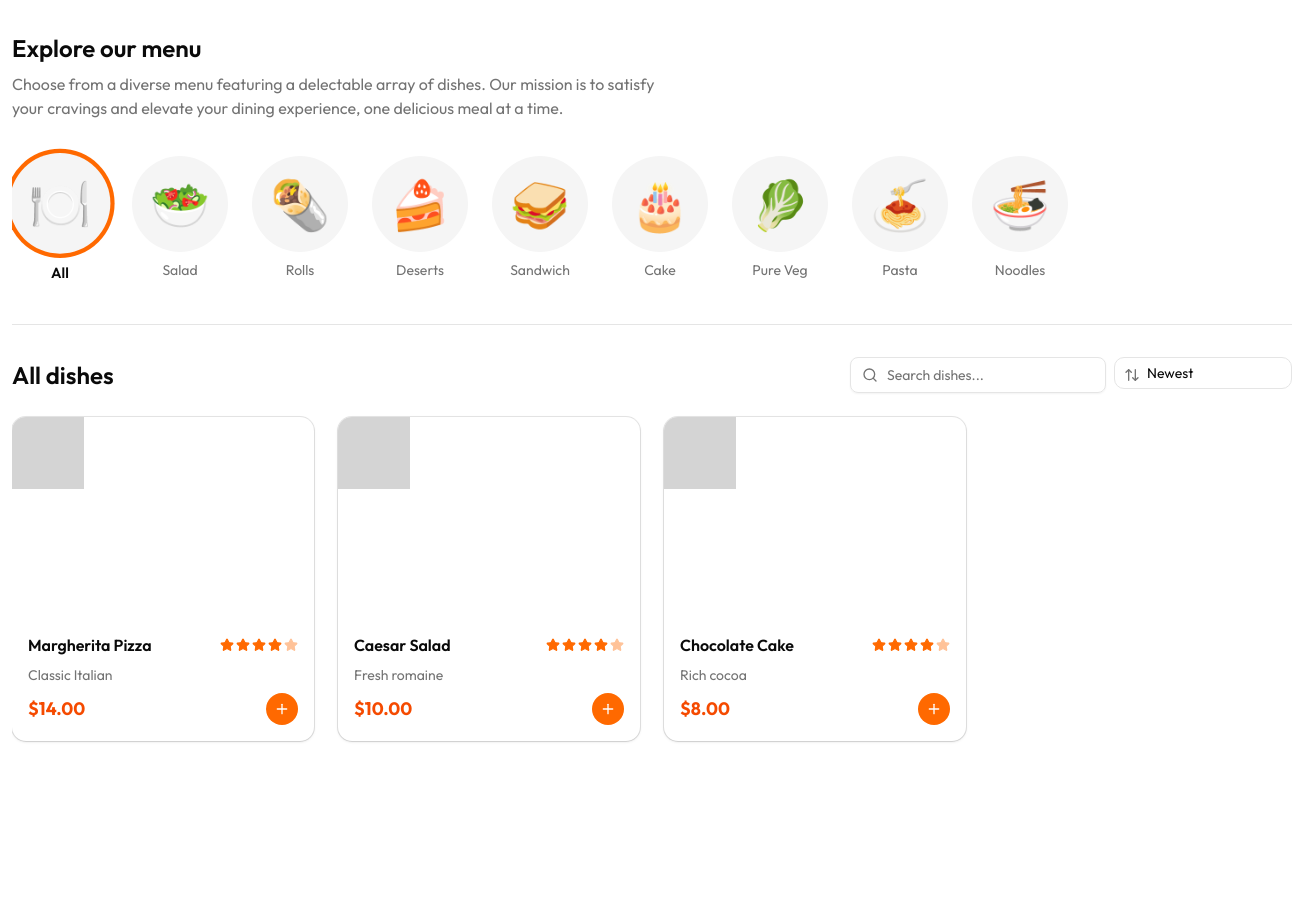
Test: FoodSection › clears search when X button is clicked
Type "pizza" into the field with placeholder "Search dishes..." at (978, 375), box [850,357,1106,393]
Wait 400 ms
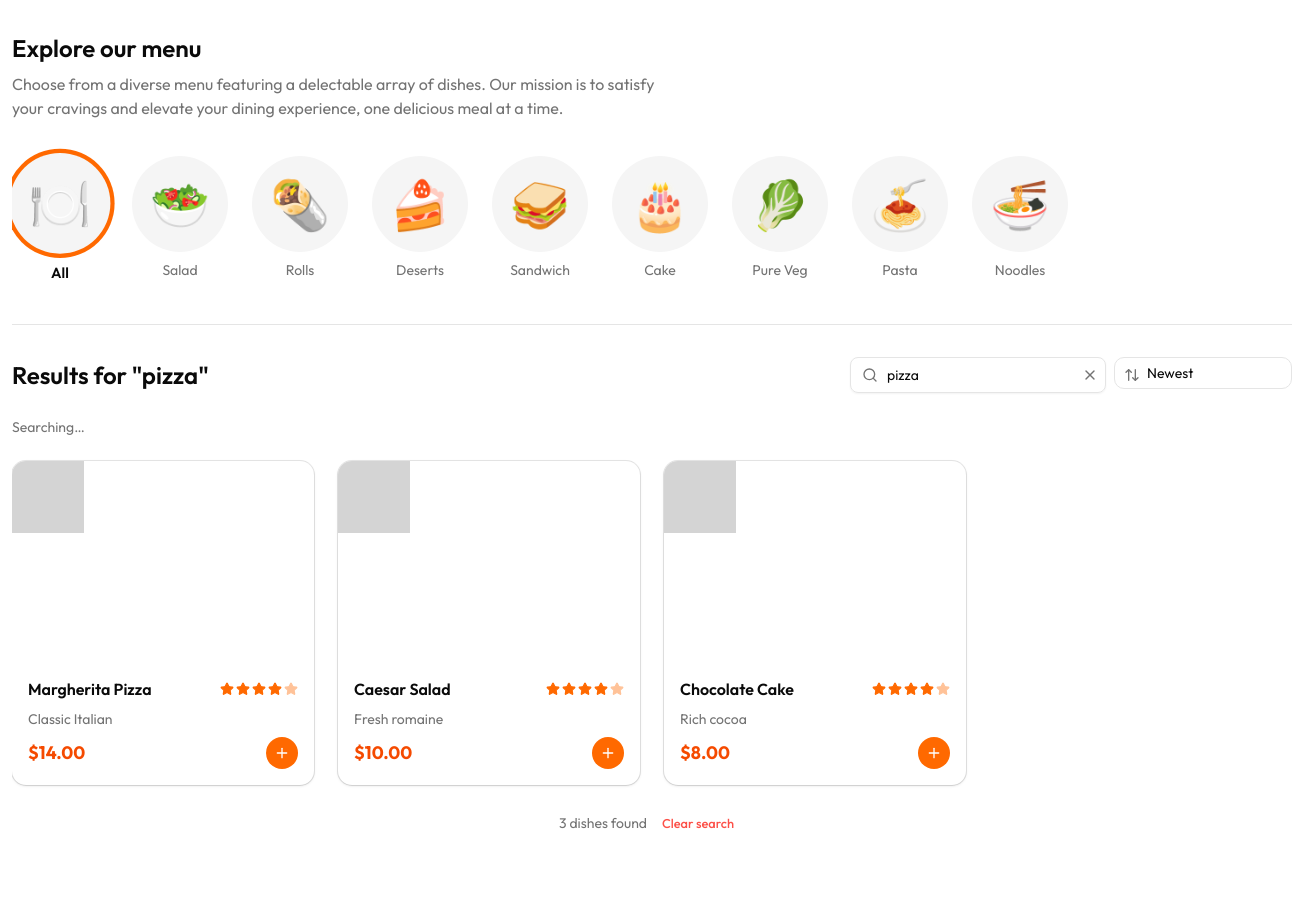
Now the button named "Clear search" is shown
Click the button named "Clear search" at (1090, 375), box [1082,367,1098,383]
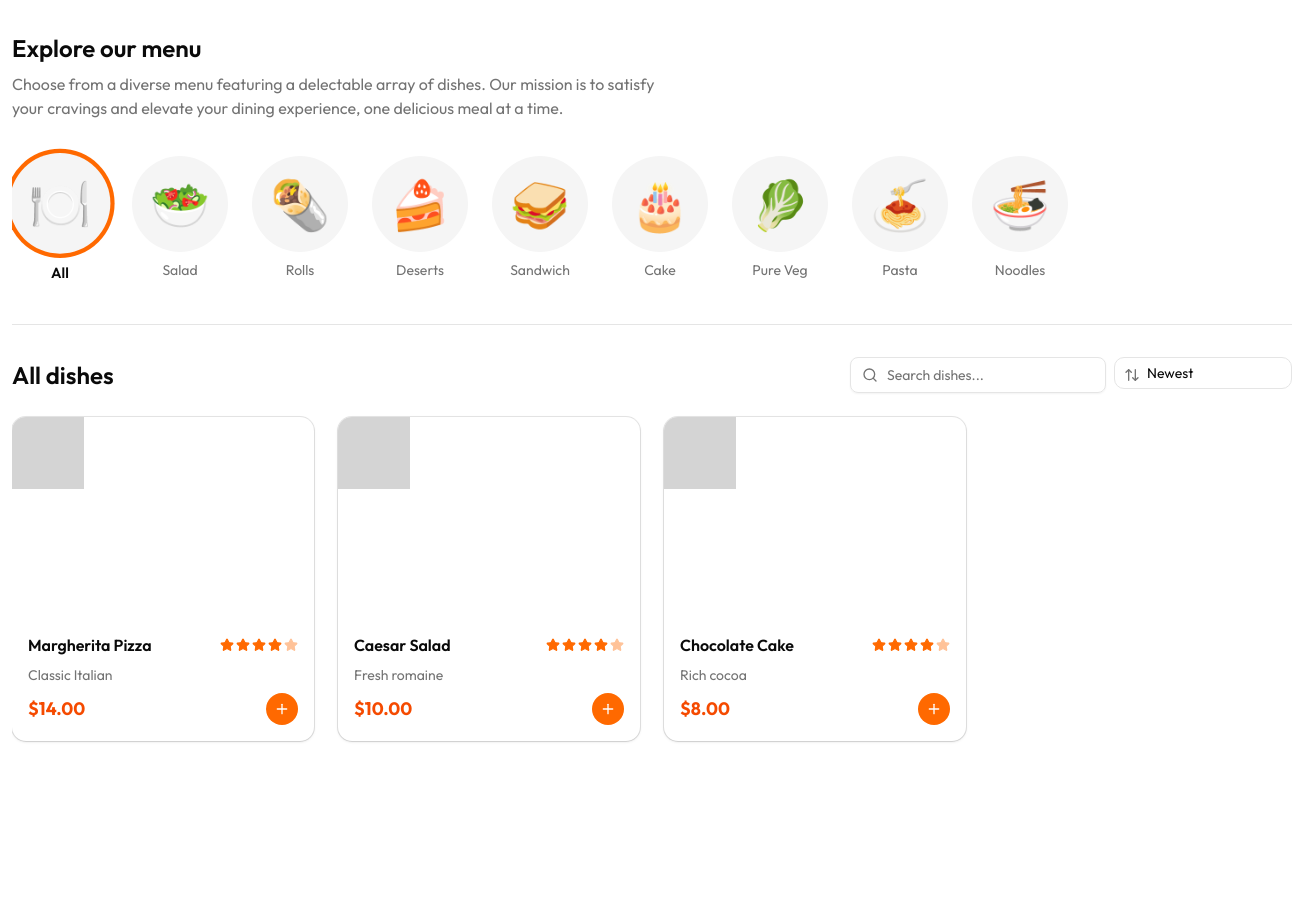
Now the field with placeholder "Search dishes..." is empty, box [850,357,1106,393]
